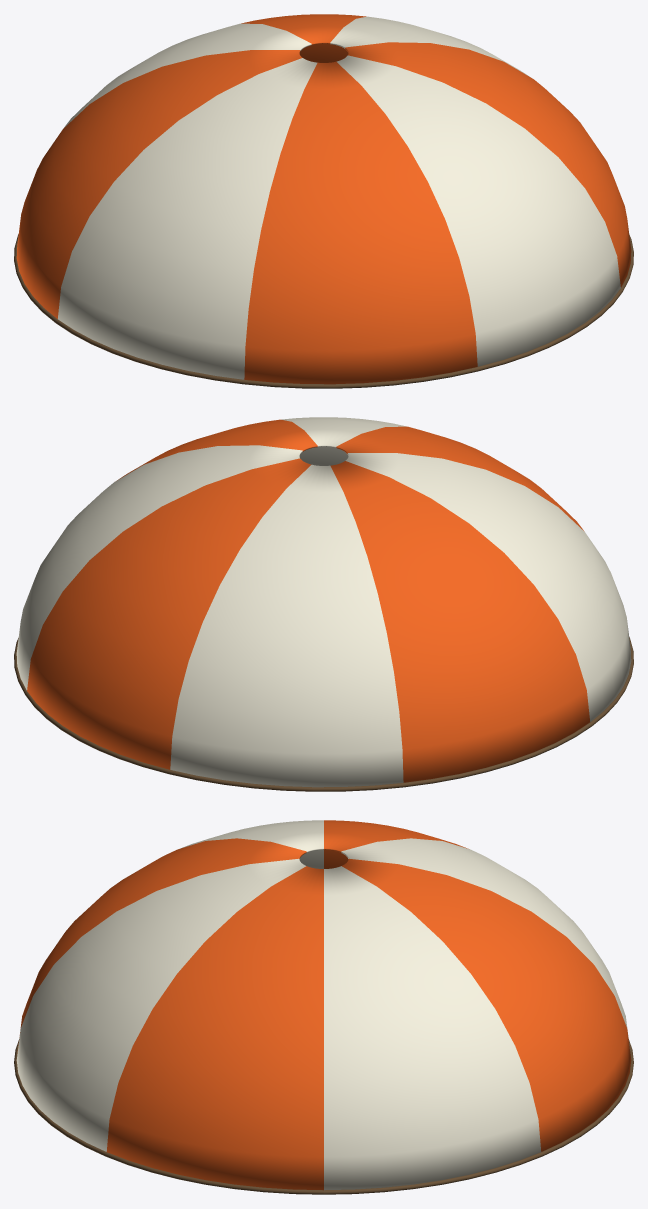
File: parachute.glb
3 renders of one model, top to bottom at view 1: azimuth 30°, elevation 25°; view 2: azimuth 150°, elevation 25°; view 3: azimuth 270°, elevation 25°, orthographic.
Visible parts, largest first — view 1: Parachute canopy, Canopy rim; view 2: Parachute canopy, Canopy rim; view 3: Parachute canopy, Canopy rim.
Boxes of the visible parts, x1,y1,x2,y2 form: Parachute canopy: [16, 14, 631, 384]; Canopy rim: [14, 234, 633, 388]; Parachute canopy: [16, 417, 631, 787]; Canopy rim: [14, 637, 633, 791]; Parachute canopy: [16, 820, 631, 1190]; Canopy rim: [14, 1039, 633, 1194].
Bounding box in the file's own units: 1.51 × 0.5542 × 1.51.
